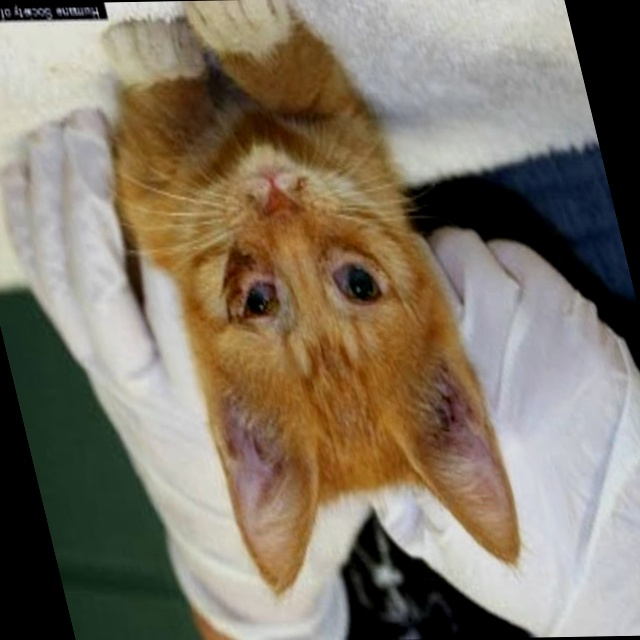eye_infection: (321, 259, 388, 307), (217, 275, 283, 317)
